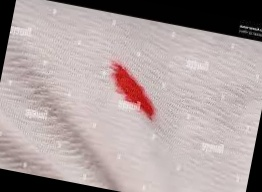blood: (101, 60, 165, 120)
